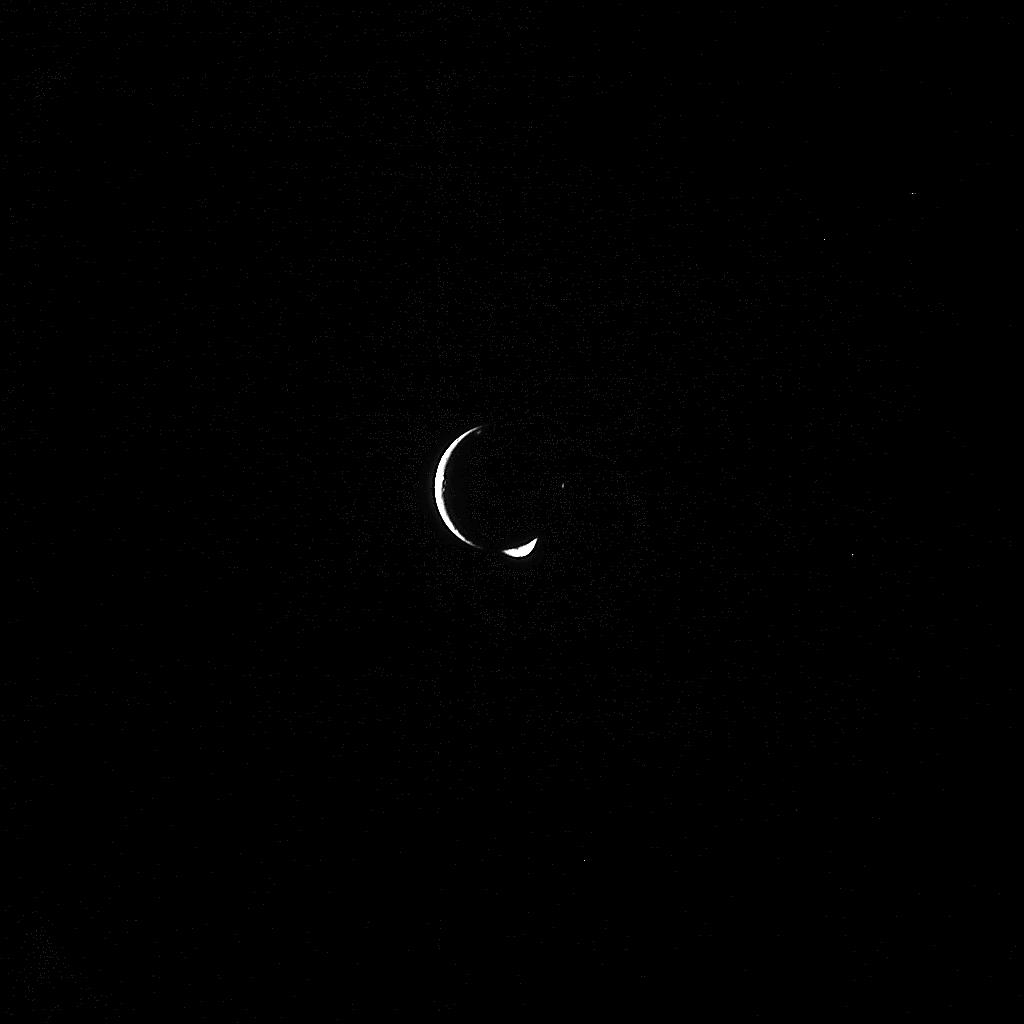plumes: (502, 538, 538, 559), (560, 480, 565, 489)
